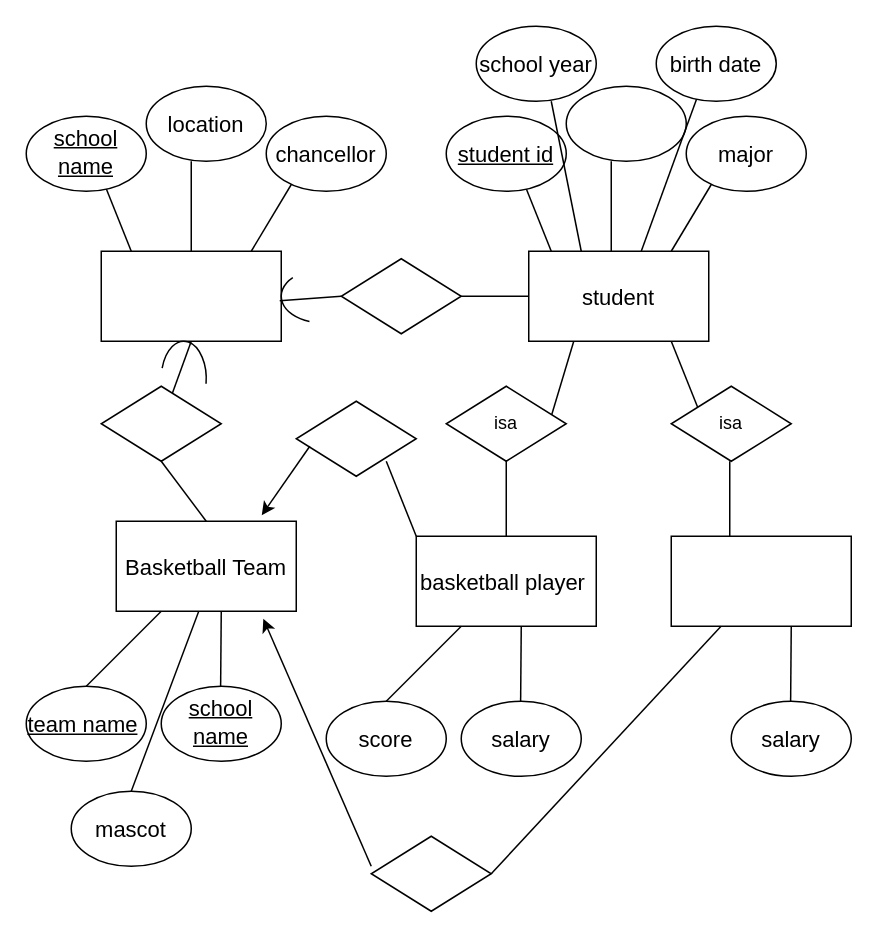
Image size: 878x938. Some labels were removed from this diagram. The centre of each missing label's shape, as x and y in pixels:
"basketball manager" belongs at (760,580).
"belong" belongs at (160,423).
"playfor" belongs at (355,438).
"register" belongs at (400,295).
"student name" belongs at (625,123).
"University" belongs at (190,295).
"work" belongs at (430,873).
